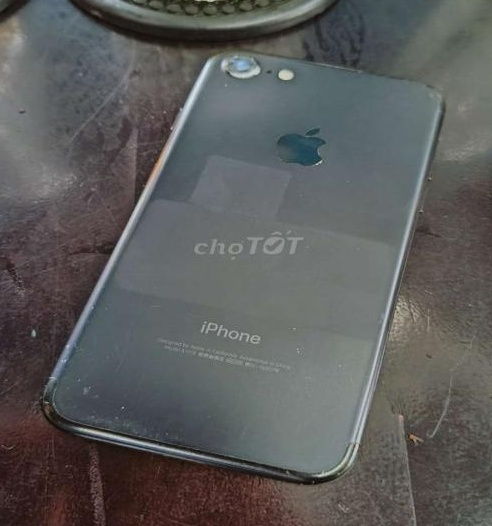scratch: (38, 336, 364, 483), (263, 119, 359, 203), (332, 60, 449, 107), (195, 49, 269, 90), (77, 283, 166, 315), (370, 304, 388, 332), (282, 317, 303, 332)
